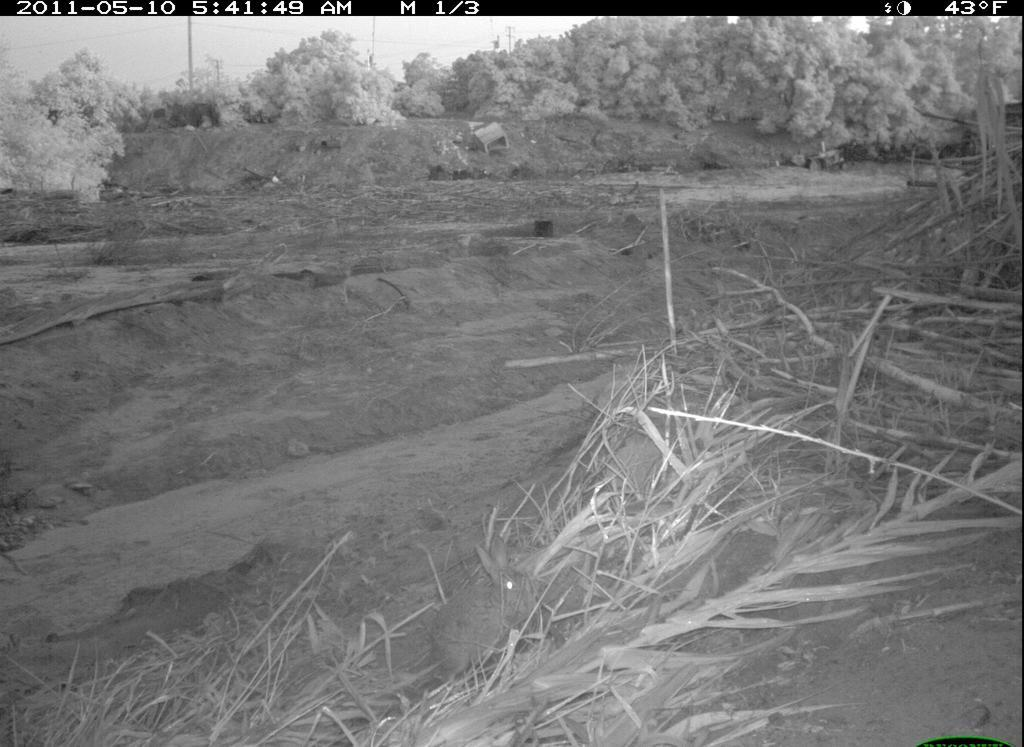rabbit: (409, 529, 548, 693)
